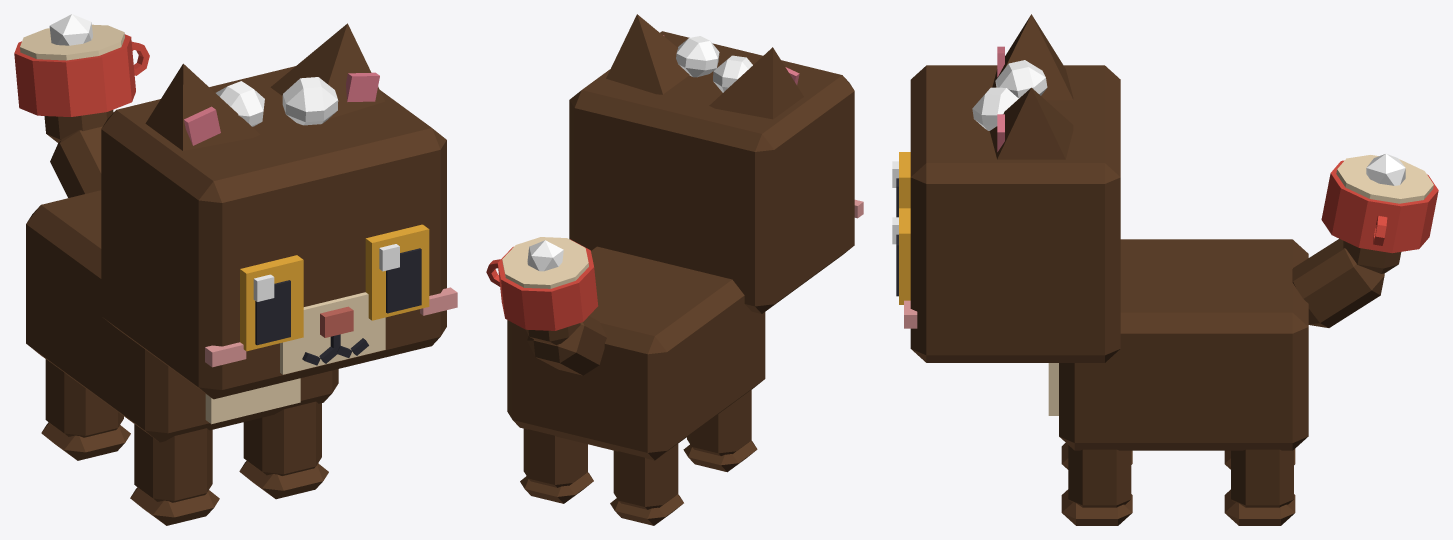
File: CatCafe_Cat_HotChocolate.glb
3 views of the same model, side by side, from view 1: azimuth 30°, elevation 25°; view 2: azimuth 150°, elevation 25°; view 3: azimuth 270°, elevation 25° (orthographic). The views are drawn at different scales.
Parts seen in each view (by area): view 1: CatCafe_Cat_HotChocolate_Head, CatCafe_Cat_HotChocolate_Body, CatCafe_Cat_HotChocolate_Tail_Mug, CatCafe_Cat_HotChocolate_LegF2, CatCafe_Cat_HotChocolate_LegF1, CatCafe_Cat_HotChocolate_Eye1, CatCafe_Cat_HotChocolate_Eye2, CatCafe_Cat_HotChocolate_LegB2, CatCafe_Cat_HotChocolate_EarR, CatCafe_Cat_HotChocolate_EarL, CatCafe_Cat_HotChocolate_Tail, CatCafe_Cat_HotChocolate_Prop; view 2: CatCafe_Cat_HotChocolate_Head, CatCafe_Cat_HotChocolate_Body, CatCafe_Cat_HotChocolate_Tail_Mug, CatCafe_Cat_HotChocolate_LegB2, CatCafe_Cat_HotChocolate_LegB1, CatCafe_Cat_HotChocolate_EarL, CatCafe_Cat_HotChocolate_EarR, CatCafe_Cat_HotChocolate_LegF2, CatCafe_Cat_HotChocolate_Tail, CatCafe_Cat_HotChocolate_Prop; view 3: CatCafe_Cat_HotChocolate_Head, CatCafe_Cat_HotChocolate_Body, CatCafe_Cat_HotChocolate_Tail_Mug, CatCafe_Cat_HotChocolate_Tail, CatCafe_Cat_HotChocolate_LegF1, CatCafe_Cat_HotChocolate_LegB1, CatCafe_Cat_HotChocolate_EarL, CatCafe_Cat_HotChocolate_EarR, CatCafe_Cat_HotChocolate_Prop, CatCafe_Cat_HotChocolate_Eye1, CatCafe_Cat_HotChocolate_Eye2.
Part boxes in pixels (box(x1,y1,x2,y2)): CatCafe_Cat_HotChocolate_Head: box(101, 66, 457, 399); CatCafe_Cat_HotChocolate_Body: box(26, 190, 338, 442); CatCafe_Cat_HotChocolate_Tail_Mug: box(14, 14, 149, 116); CatCafe_Cat_HotChocolate_LegF2: box(130, 424, 219, 525); CatCafe_Cat_HotChocolate_LegF1: box(239, 401, 328, 499); CatCafe_Cat_HotChocolate_Eye1: box(365, 224, 429, 320); CatCafe_Cat_HotChocolate_Eye2: box(240, 255, 303, 351); CatCafe_Cat_HotChocolate_LegB2: box(41, 359, 130, 460); CatCafe_Cat_HotChocolate_EarR: box(145, 63, 260, 150); CatCafe_Cat_HotChocolate_EarL: box(270, 23, 385, 119); CatCafe_Cat_HotChocolate_Tail: box(44, 110, 113, 197); CatCafe_Cat_HotChocolate_Prop: box(216, 77, 338, 126); CatCafe_Cat_HotChocolate_Head: box(569, 31, 863, 313); CatCafe_Cat_HotChocolate_Body: box(507, 246, 765, 460); CatCafe_Cat_HotChocolate_Tail_Mug: box(486, 237, 598, 330); CatCafe_Cat_HotChocolate_LegB2: box(610, 443, 683, 525); CatCafe_Cat_HotChocolate_LegB1: box(520, 428, 593, 503); CatCafe_Cat_HotChocolate_EarL: box(606, 14, 689, 94); CatCafe_Cat_HotChocolate_EarR: box(709, 47, 803, 119); CatCafe_Cat_HotChocolate_LegF2: box(683, 390, 757, 472); CatCafe_Cat_HotChocolate_Tail: box(526, 316, 606, 375); CatCafe_Cat_HotChocolate_Prop: box(676, 36, 752, 92); CatCafe_Cat_HotChocolate_Head: box(904, 65, 1120, 362); CatCafe_Cat_HotChocolate_Body: box(1048, 239, 1308, 450); CatCafe_Cat_HotChocolate_Tail_Mug: box(1321, 153, 1438, 253); CatCafe_Cat_HotChocolate_Tail: box(1292, 238, 1401, 327); CatCafe_Cat_HotChocolate_LegF1: box(1061, 445, 1132, 525); CatCafe_Cat_HotChocolate_LegB1: box(1224, 449, 1295, 525); CatCafe_Cat_HotChocolate_EarL: box(989, 87, 1073, 159); CatCafe_Cat_HotChocolate_EarR: box(992, 14, 1073, 100); CatCafe_Cat_HotChocolate_Prop: box(972, 60, 1047, 130); CatCafe_Cat_HotChocolate_Eye1: box(892, 208, 910, 304); CatCafe_Cat_HotChocolate_Eye2: box(892, 152, 910, 217).
Bounding box in the file's own units: 1 × 1.86 × 2.08.
Materials: 1 (1 with a texture image).
